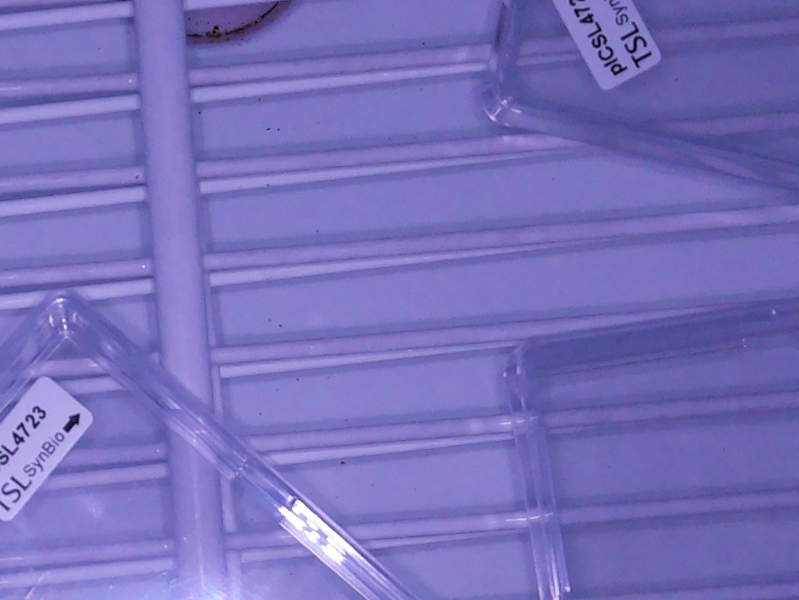plate: (1, 284, 418, 600), (502, 294, 799, 600), (479, 1, 799, 191)
